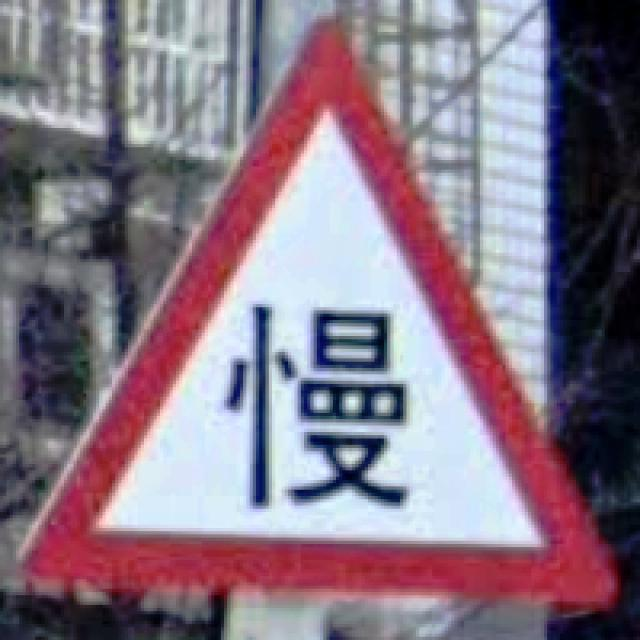slow: (19, 19, 614, 604)
